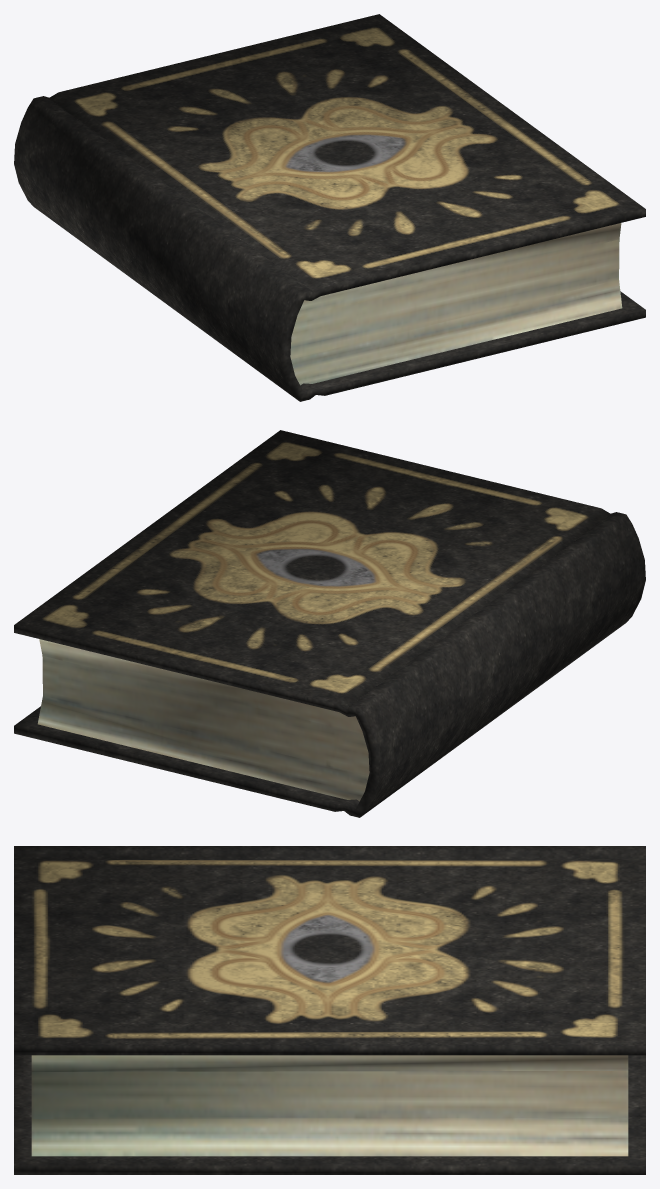
File: book.FBX
The picture shows the model from 3 angles, top to bottom: view 1: azimuth 30°, elevation 25°; view 2: azimuth 150°, elevation 25°; view 3: azimuth 270°, elevation 25°; orthographic projection. The views are drawn at different scales.
Visible parts, largest first — view 1: book; view 2: book; view 3: book.
Boxes of the visible parts, x1,y1,x2,y2 form: book: [14, 14, 645, 401]; book: [14, 430, 645, 817]; book: [14, 846, 645, 1174].
Bounding box in the file's own units: 0.2213 × 0.0627 × 0.2795.
